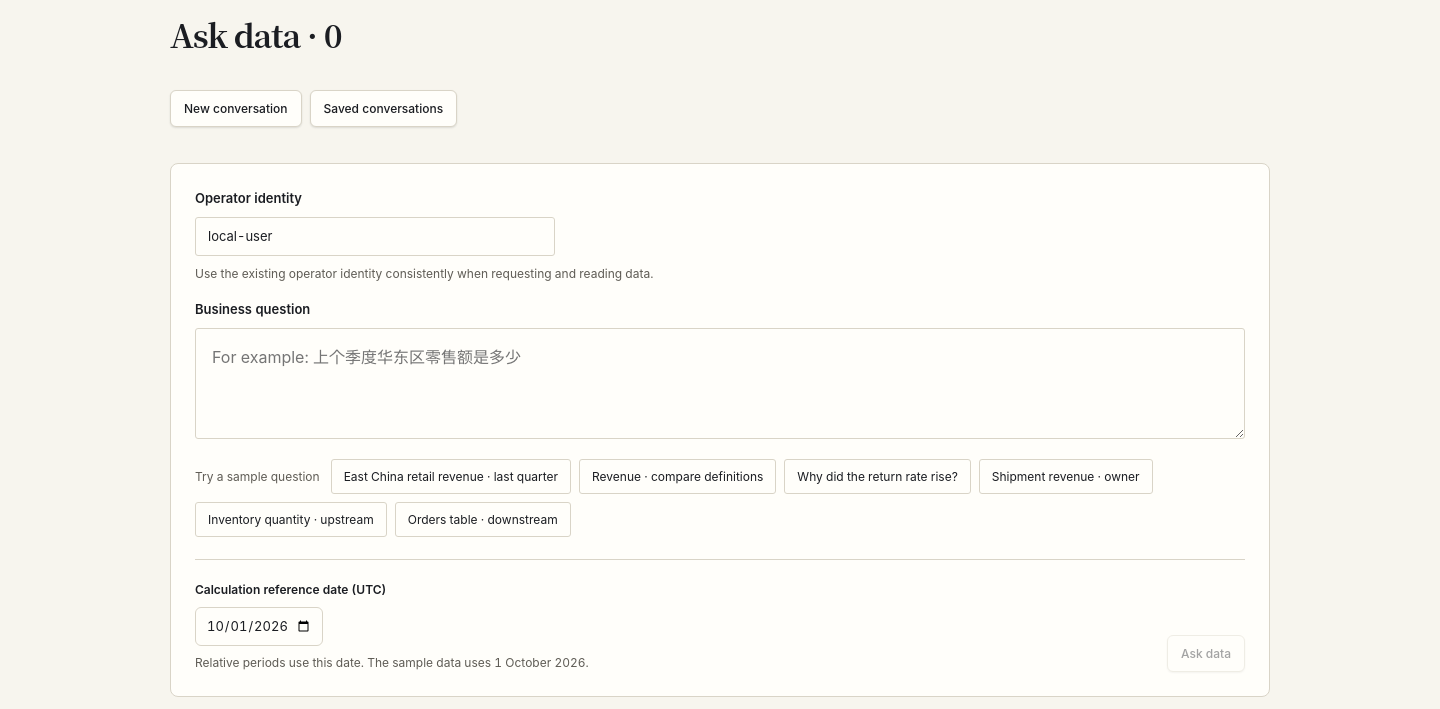
retains a selected intent when a later response asks to choose the subject
Step 1. Type "出货额与哪些指标有关" into the text box labelled "Business question" → point(720, 383), box left=195, top=328, right=1245, bottom=439
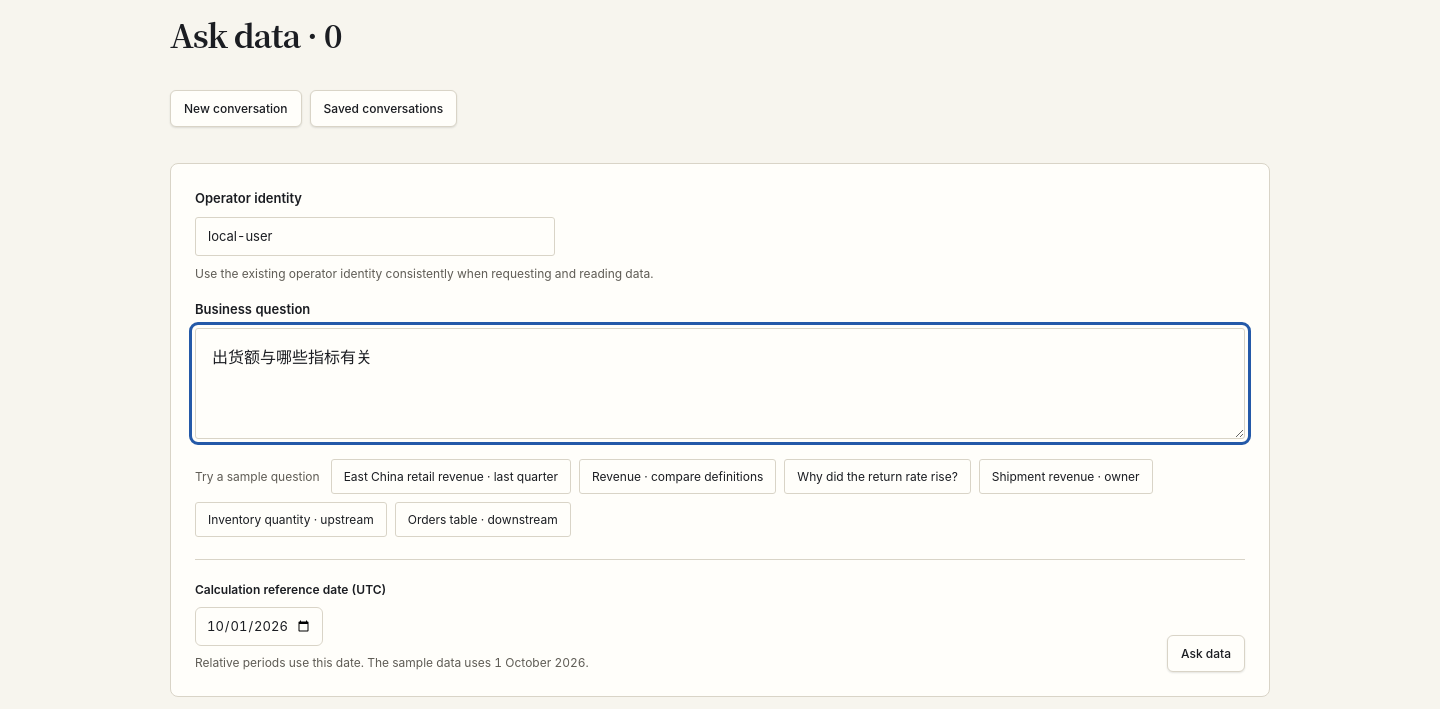
Step 2. Click the button "Ask data" → point(1206, 654), box left=1167, top=635, right=1245, bottom=672
(page scrolled)
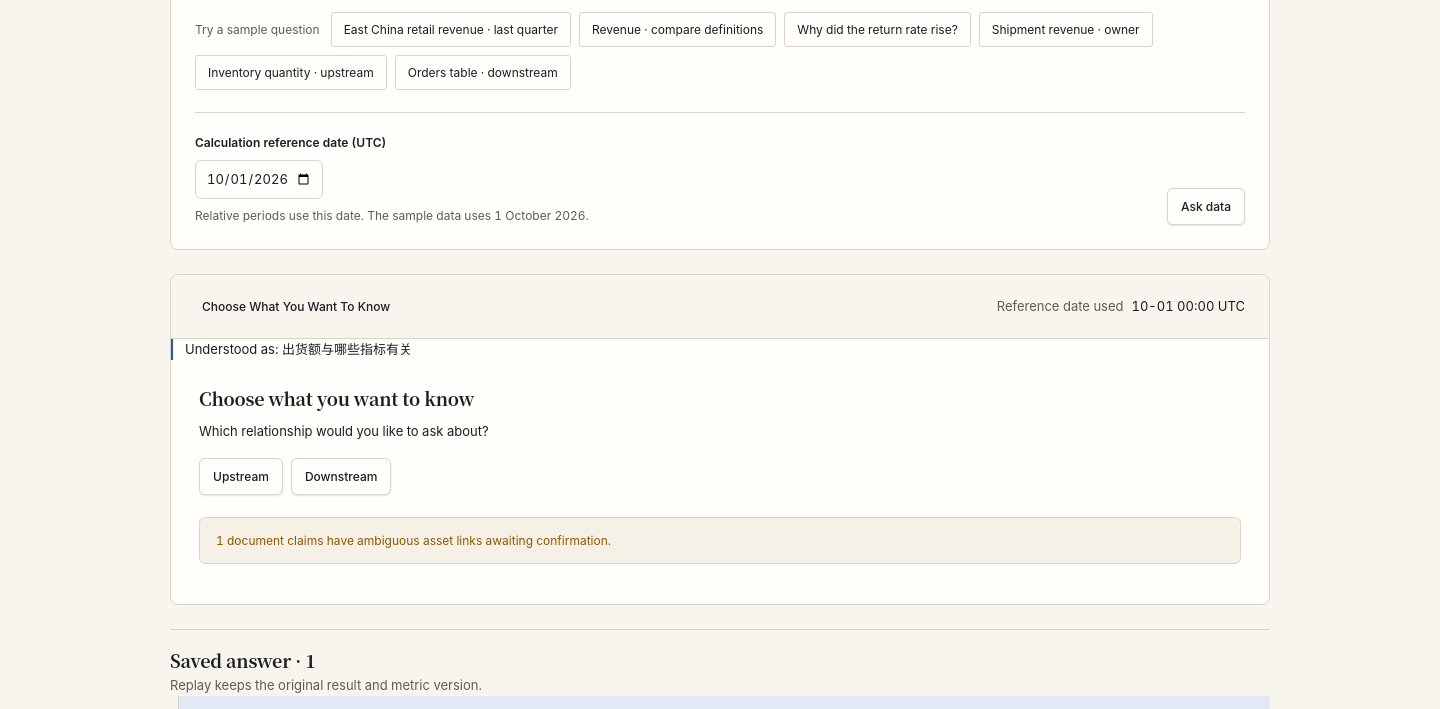
Step 3. Click the button "Upstream" → point(241, 476), box left=199, top=458, right=283, bottom=495
(page scrolled)
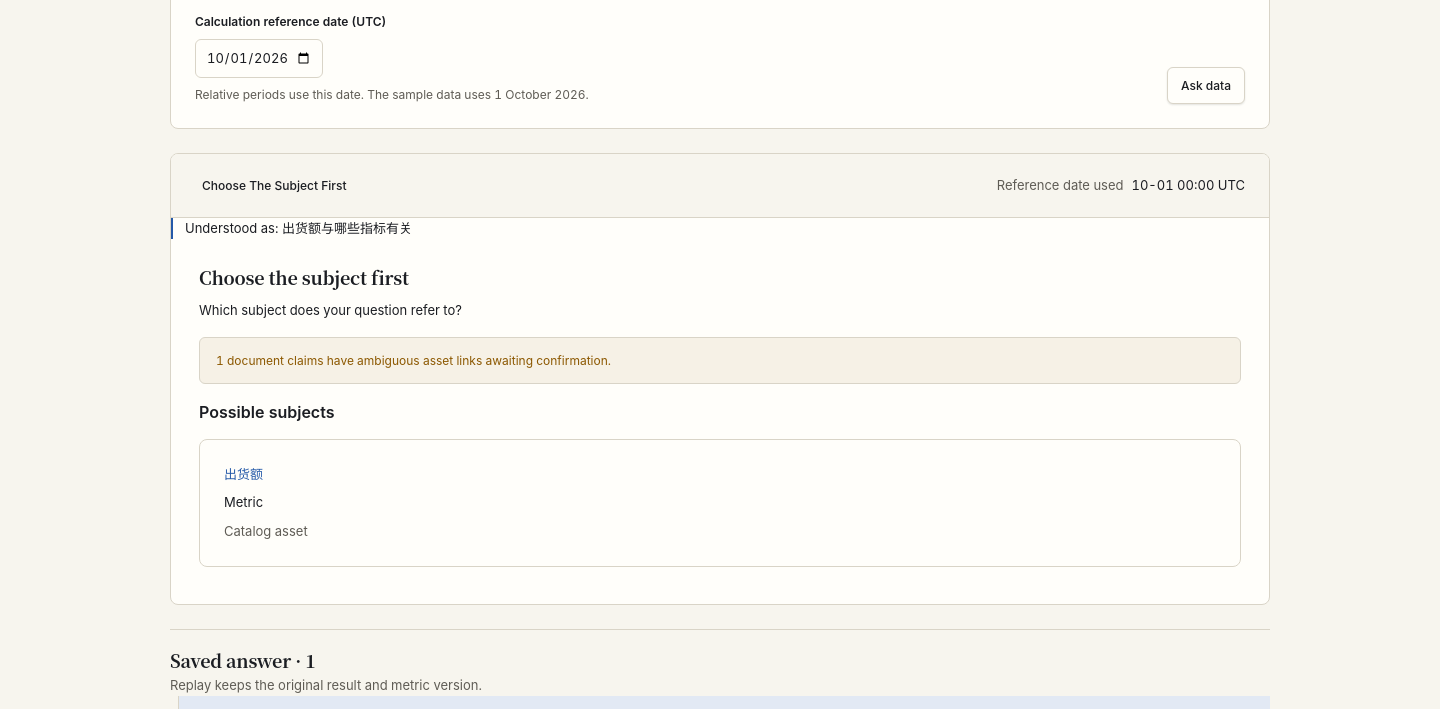
Step 4. Click the button "出货额 Metric Catalog asset" → point(244, 474), box left=216, top=456, right=1224, bottom=550
(page scrolled)
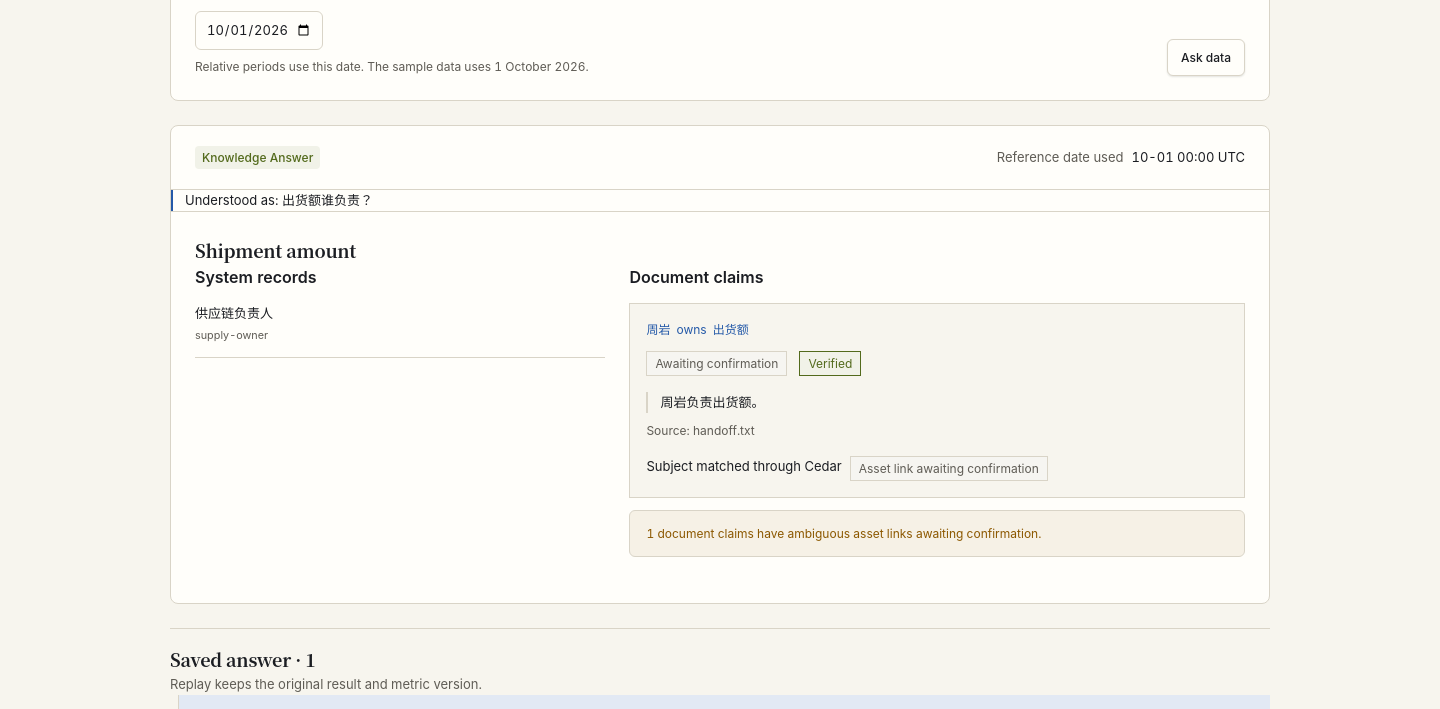
Now the element "System records" is shown, box left=195, top=267, right=605, bottom=358
